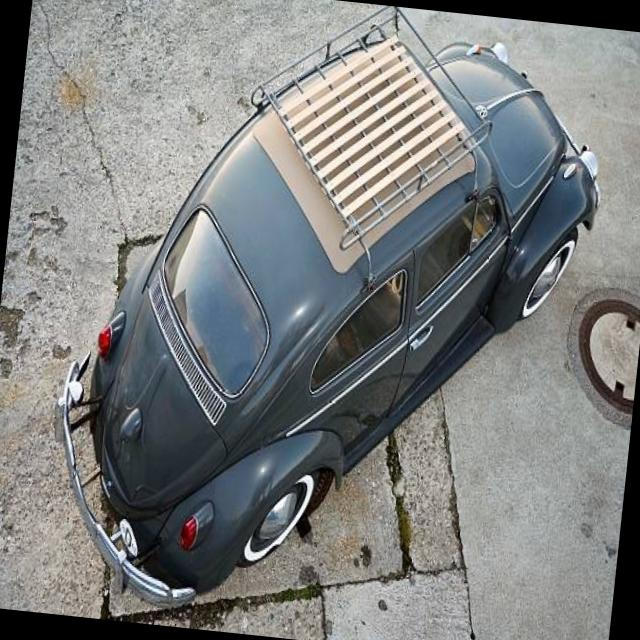car: (68, 7, 608, 617)
